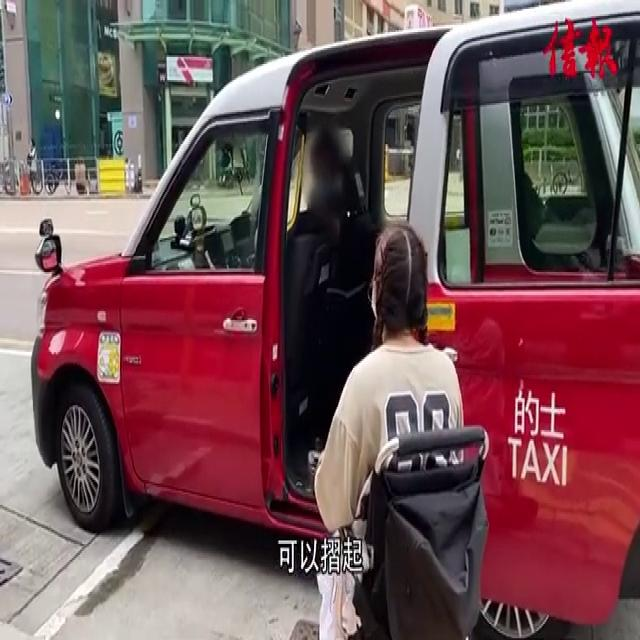wheelchairs: (304, 404, 498, 640)
